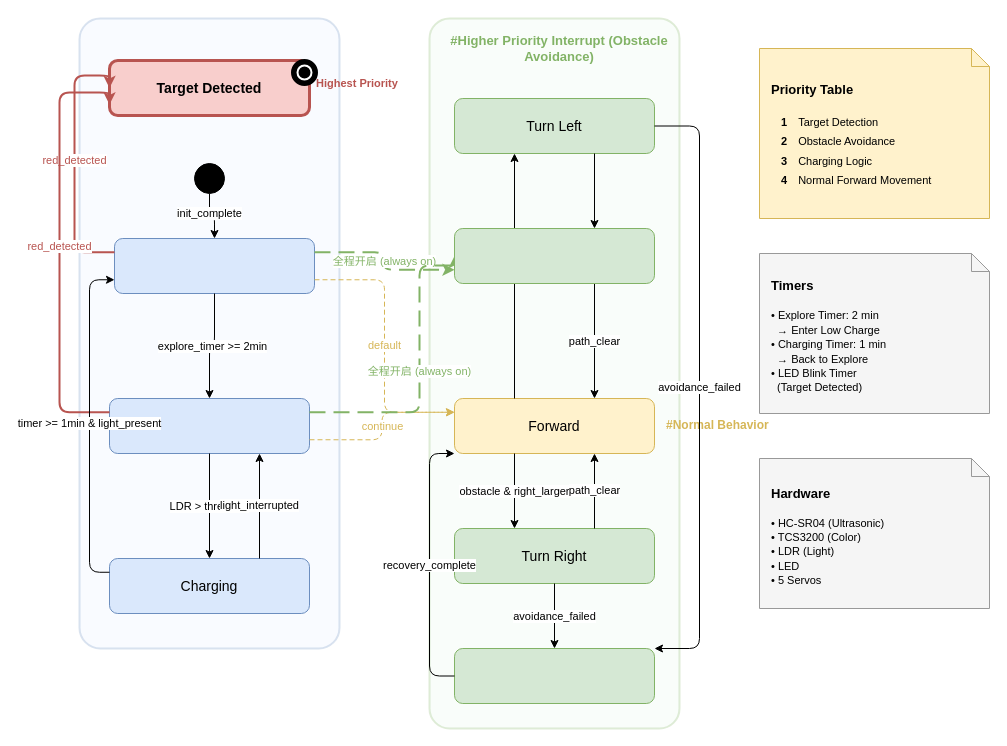
Image size: 1007x746. Some labels were removed from this diagram. Each missing label, with the box of its shape:
#Mission States: (78, 17, 340, 649)
Explore: (114, 238, 314, 294)
Low Charge: (108, 398, 310, 454)
Recovery: (454, 648, 654, 704)
Scan: (454, 228, 654, 284)
